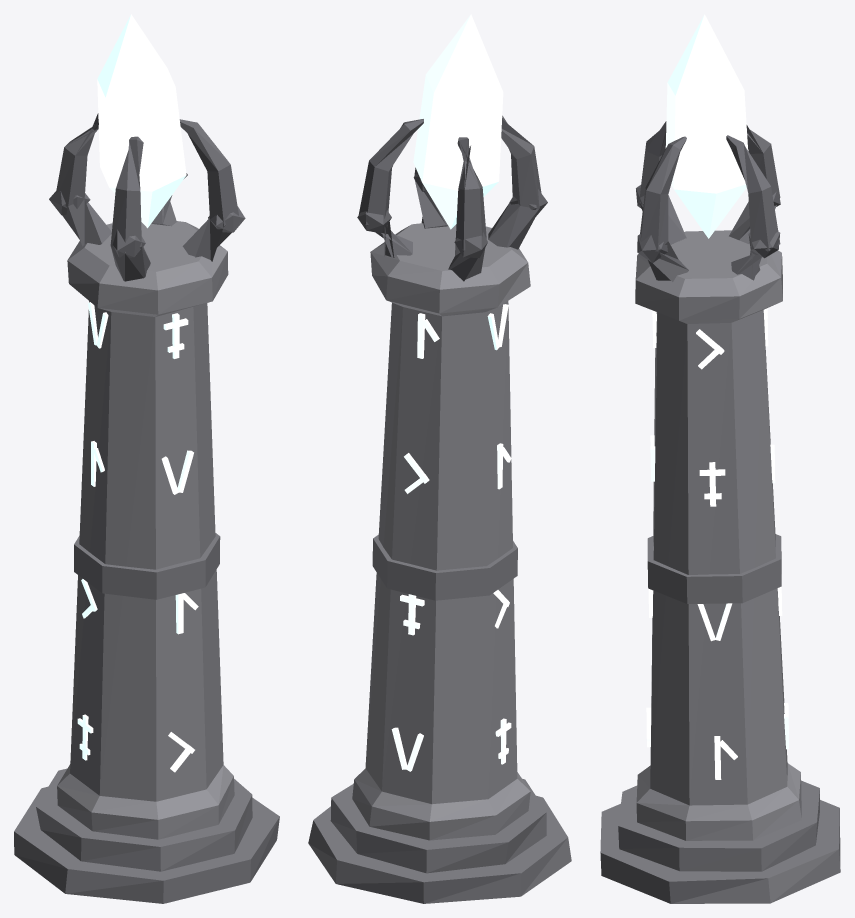
Rendered from Altar_Pillar_A.glb.
3 views of the same model, side by side, from view 1: azimuth 30°, elevation 25°; view 2: azimuth 150°, elevation 25°; view 3: azimuth 270°, elevation 25° (orthographic).
Visible parts, largest first — view 1: Stone, StoneDark, Claws, Crystal, Runes; view 2: Stone, StoneDark, Crystal, Claws, Runes; view 3: Stone, StoneDark, Crystal, Claws, Runes.
Boxes of the visible parts, x1=… form: Stone: x1=57, y1=221, x2=234, y2=839; StoneDark: x1=14, y1=533, x2=279, y2=903; Claws: x1=49, y1=113, x2=245, y2=281; Crystal: x1=97, y1=14, x2=186, y2=228; Runes: x1=77, y1=302, x2=198, y2=772; Stone: x1=352, y1=223, x2=530, y2=840; StoneDark: x1=308, y1=535, x2=571, y2=903; Crystal: x1=413, y1=14, x2=503, y2=229; Claws: x1=357, y1=115, x2=547, y2=281; Runes: x1=391, y1=304, x2=511, y2=771; Stone: x1=635, y1=230, x2=801, y2=840; StoneDark: x1=600, y1=534, x2=840, y2=903; Crystal: x1=665, y1=14, x2=748, y2=238; Claws: x1=636, y1=121, x2=780, y2=281; Runes: x1=646, y1=308, x2=788, y2=779.
Size of the model in its own units: 5.68 by 21.43 by 5.61.
